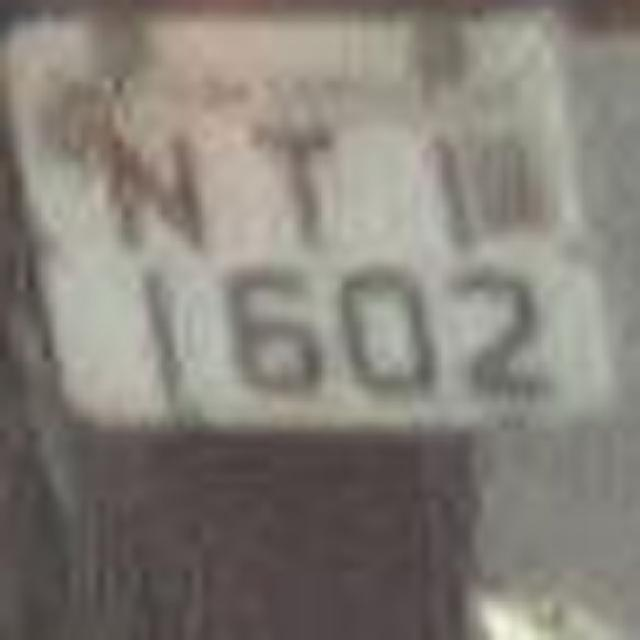0: (324, 240, 448, 415)
1: (128, 260, 208, 412)
2: (436, 240, 564, 408)
6: (212, 244, 340, 416)
N: (431, 92, 564, 256), (89, 116, 216, 272)
T: (228, 120, 364, 248)
